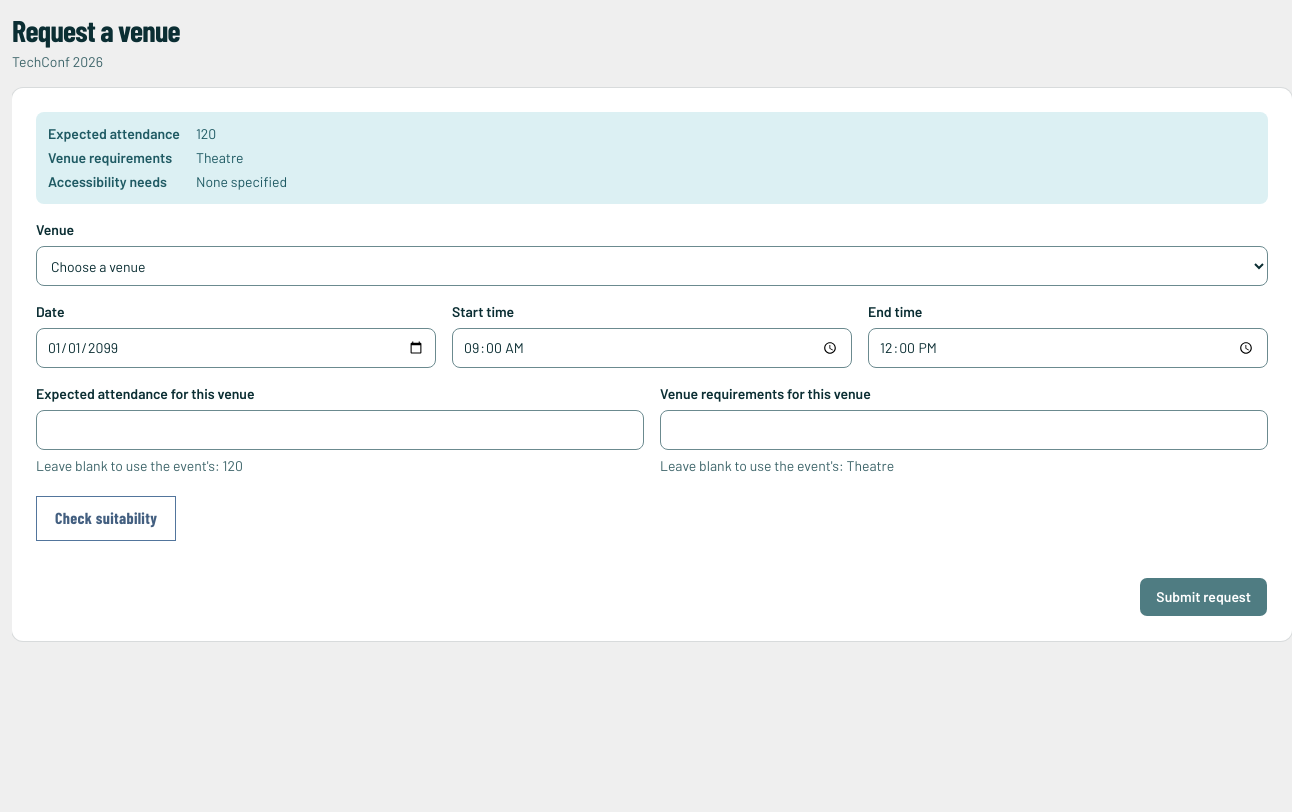
Scenario: SCRUM-110/AC1-AC3 the request form (110-S1, 110-S2, 110-S3, 110-S5) › 110-S5: a taken slot is refused as an error with no way to continue
Select "Lotus Room (capacity 60)" in the dropdown labelled "Venue" at coordinates (652, 266), box x1=36 y1=246 x2=1268 y2=286
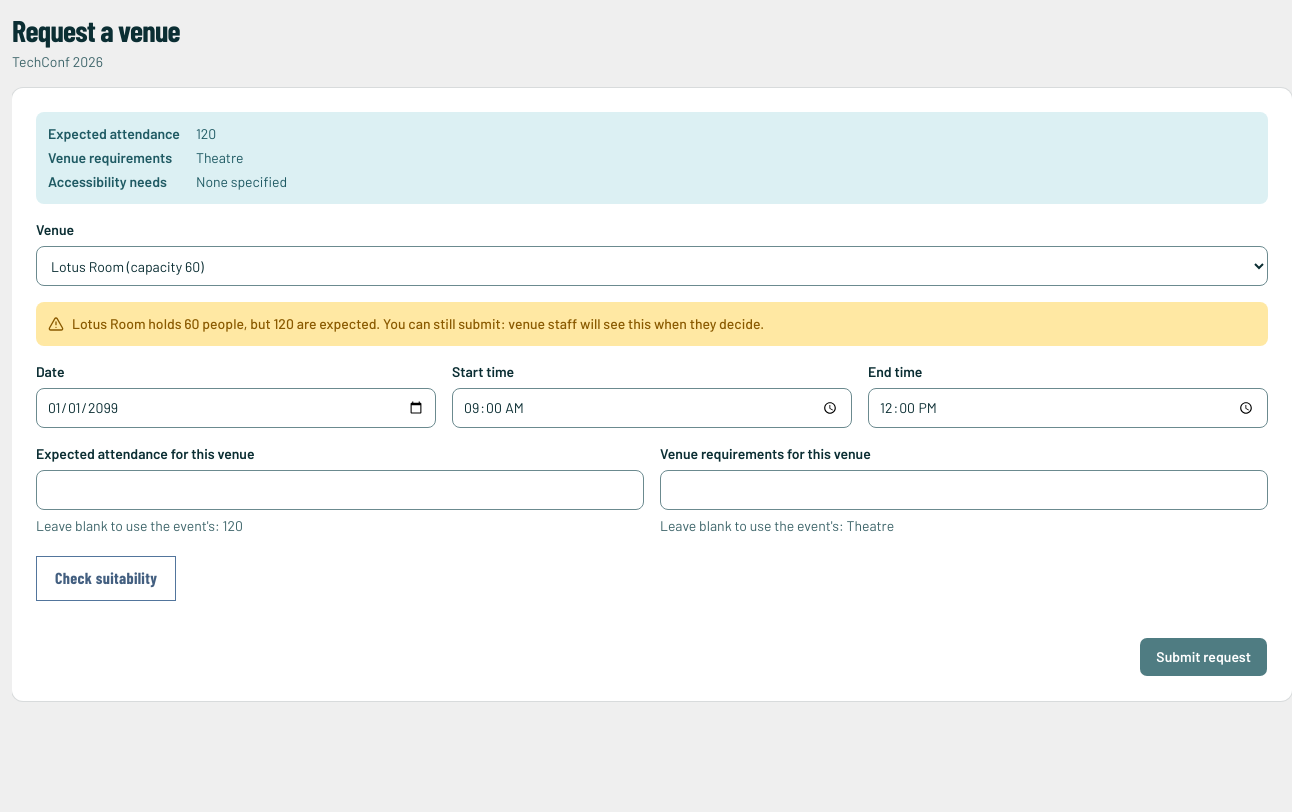
Click the button "Submit request" at coordinates (1204, 657), box x1=1139 y1=637 x2=1268 y2=677
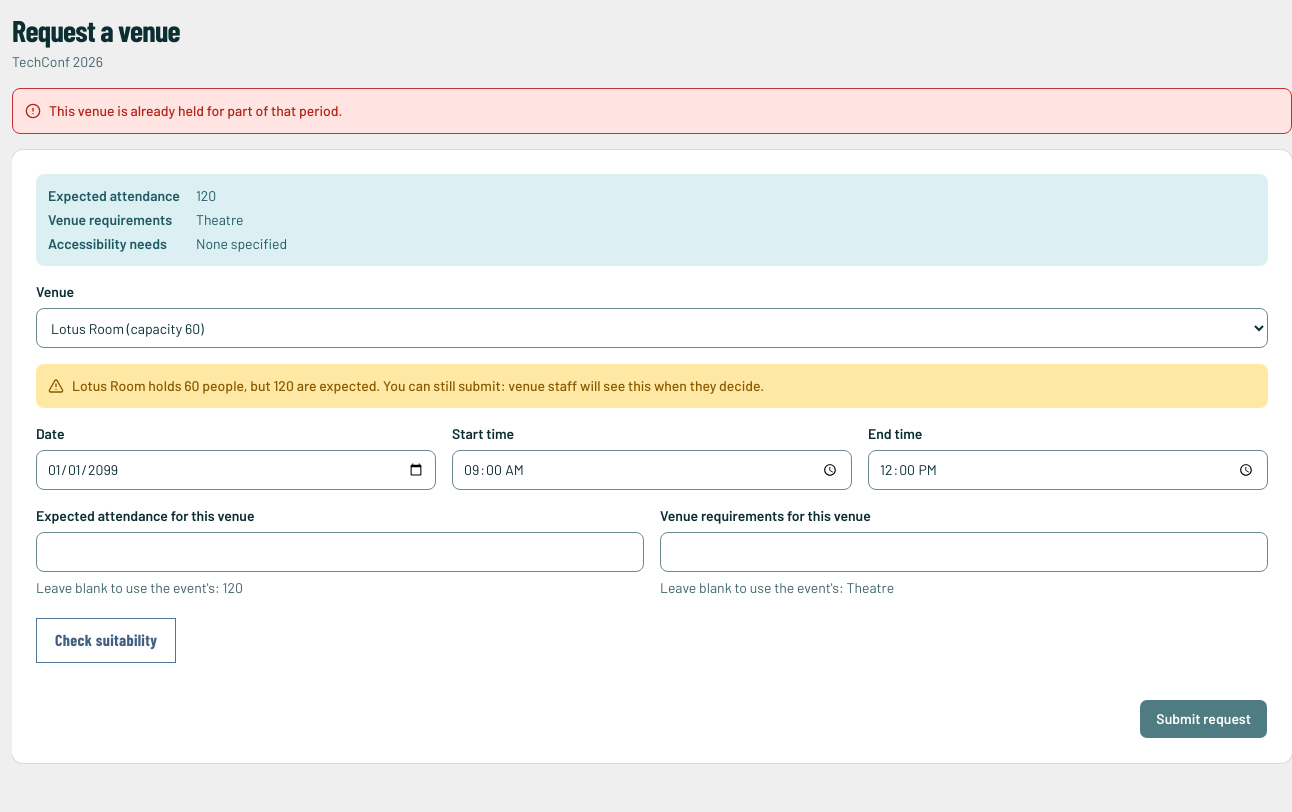
Expected: the message "This venue is already held for part of that period." is shown, x1=12 y1=88 x2=1291 y2=134
